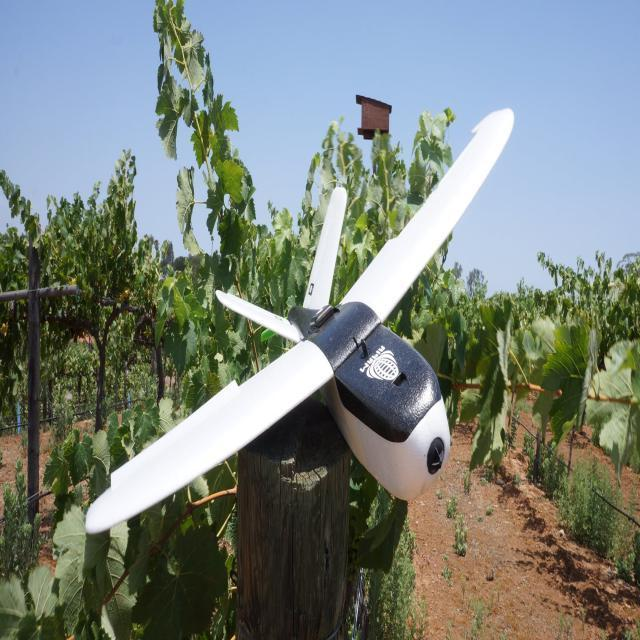iha: (84, 99, 519, 537)
